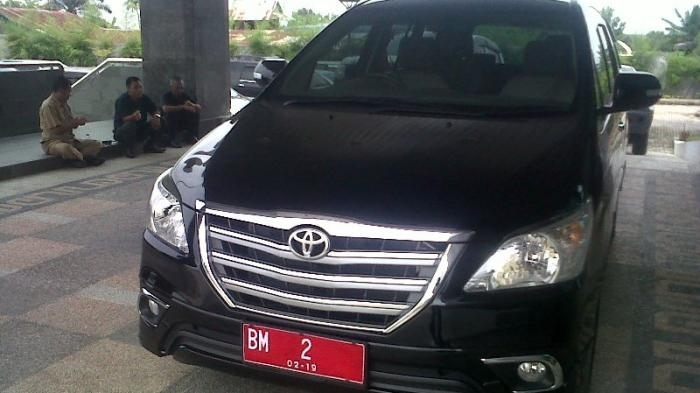plate: (241, 323, 365, 387)
